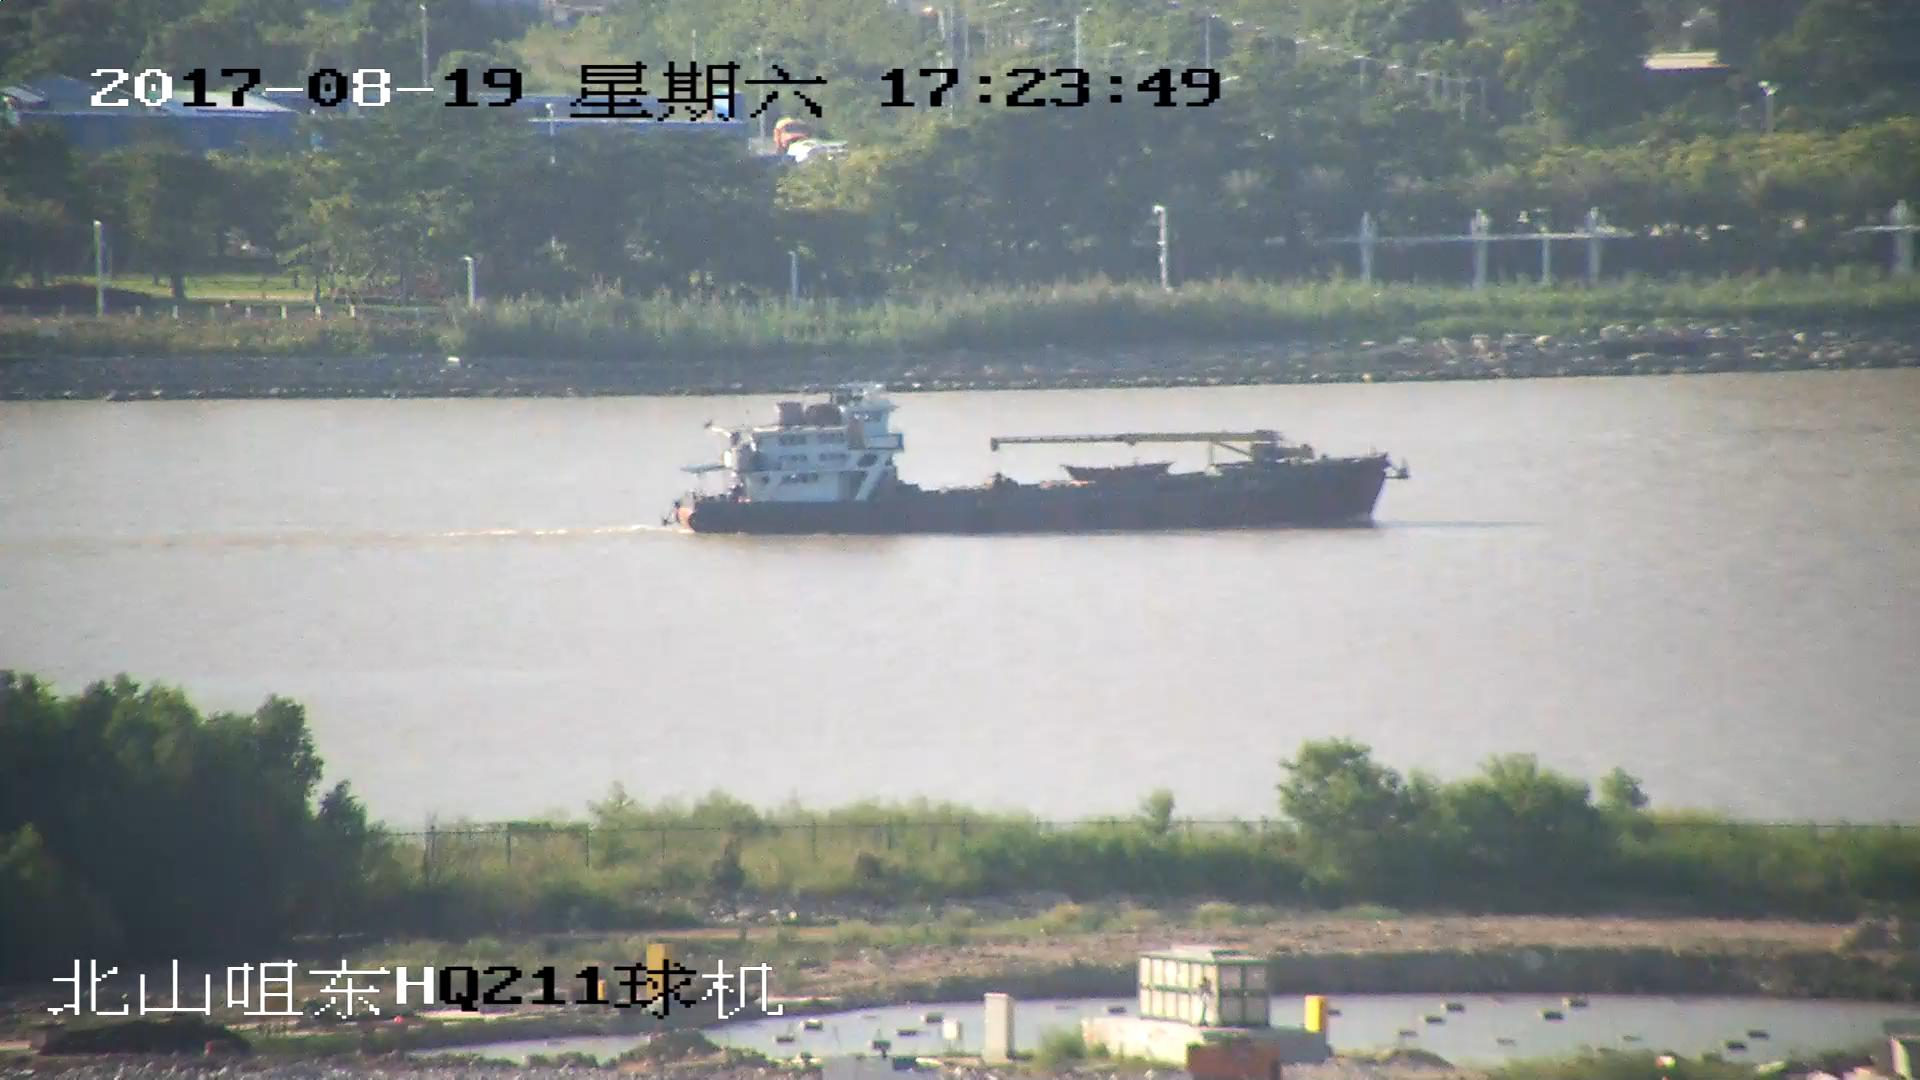bulk cargo carrier: (657, 403, 1409, 530)
